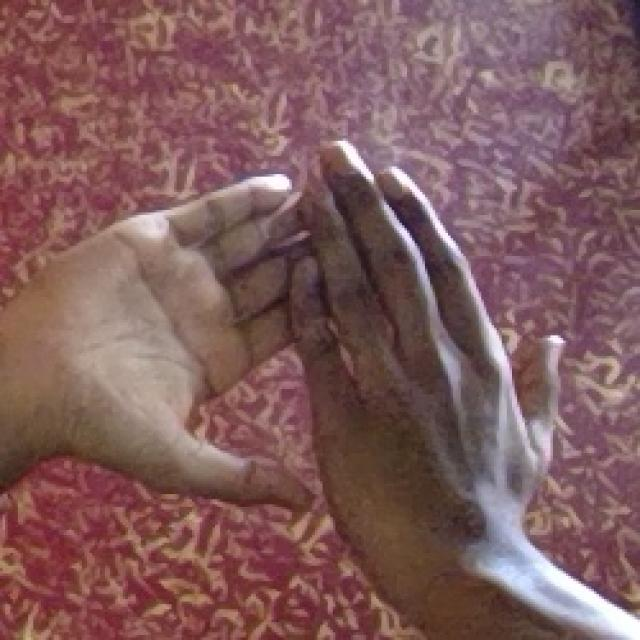Alphabet-H: (38, 136, 573, 562)
